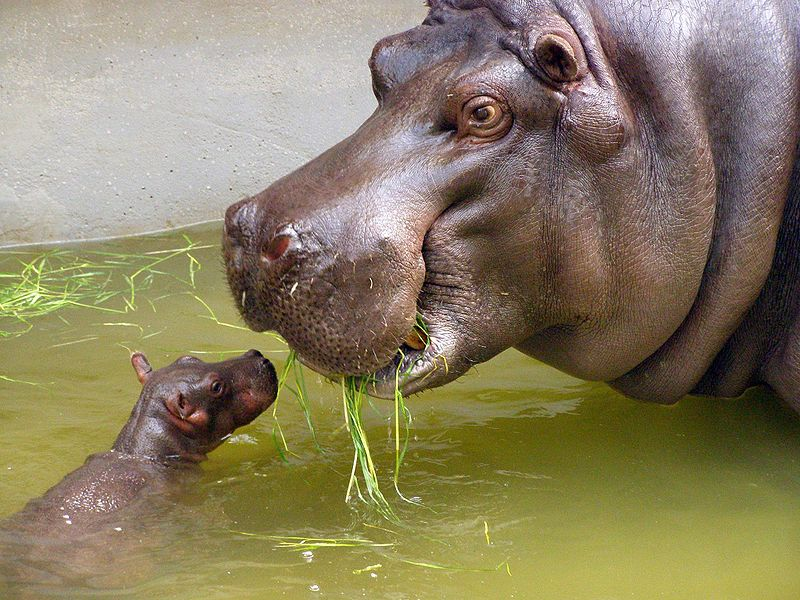Hippopotamus: (211, 1, 800, 432), (23, 343, 283, 553)
